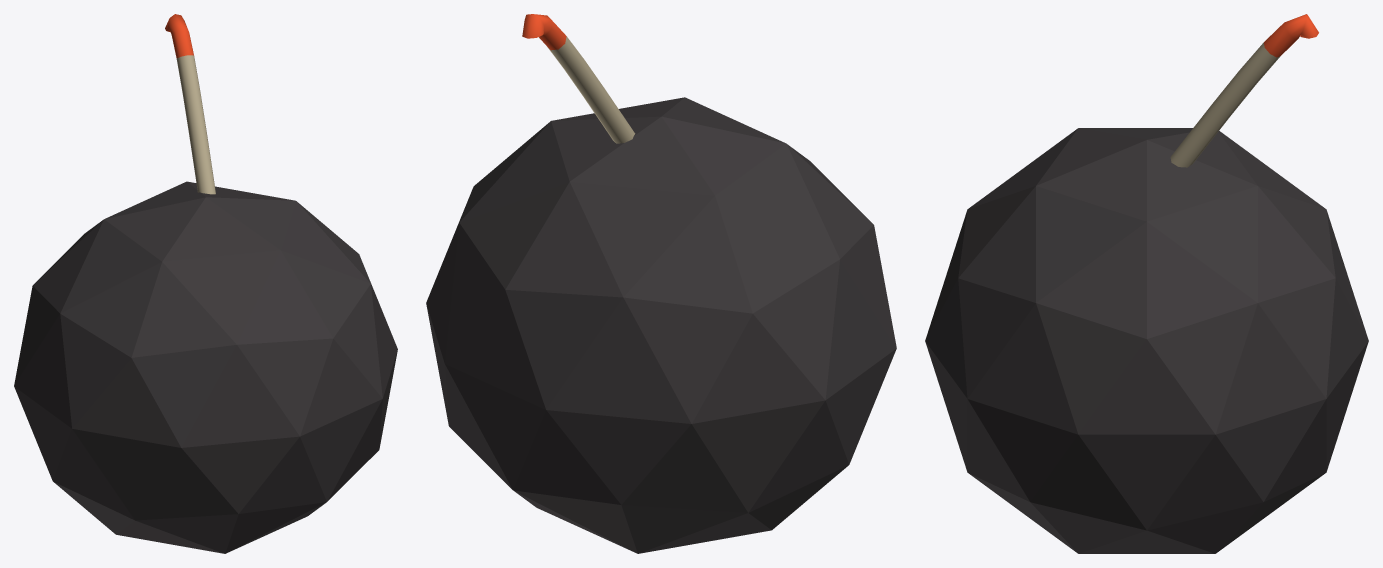
The picture shows the model from 3 angles, left to right: view 1: azimuth 30°, elevation 25°; view 2: azimuth 150°, elevation 25°; view 3: azimuth 270°, elevation 25°; orthographic projection. The views are drawn at different scales.
Parts seen in each view (by area): view 1: 棱角球, 贝塞尔曲线; view 2: 棱角球, 贝塞尔曲线; view 3: 棱角球, 贝塞尔曲线.
Part boxes in pixels (bbox=[...]): 棱角球: bbox=[14, 181, 397, 553]; 贝塞尔曲线: bbox=[165, 14, 215, 194]; 棱角球: bbox=[426, 97, 896, 553]; 贝塞尔曲线: bbox=[522, 14, 635, 143]; 棱角球: bbox=[925, 128, 1368, 553]; 贝塞尔曲线: bbox=[1170, 14, 1318, 167].
Bounding box in the file's own units: 40 × 40 × 54.6.
